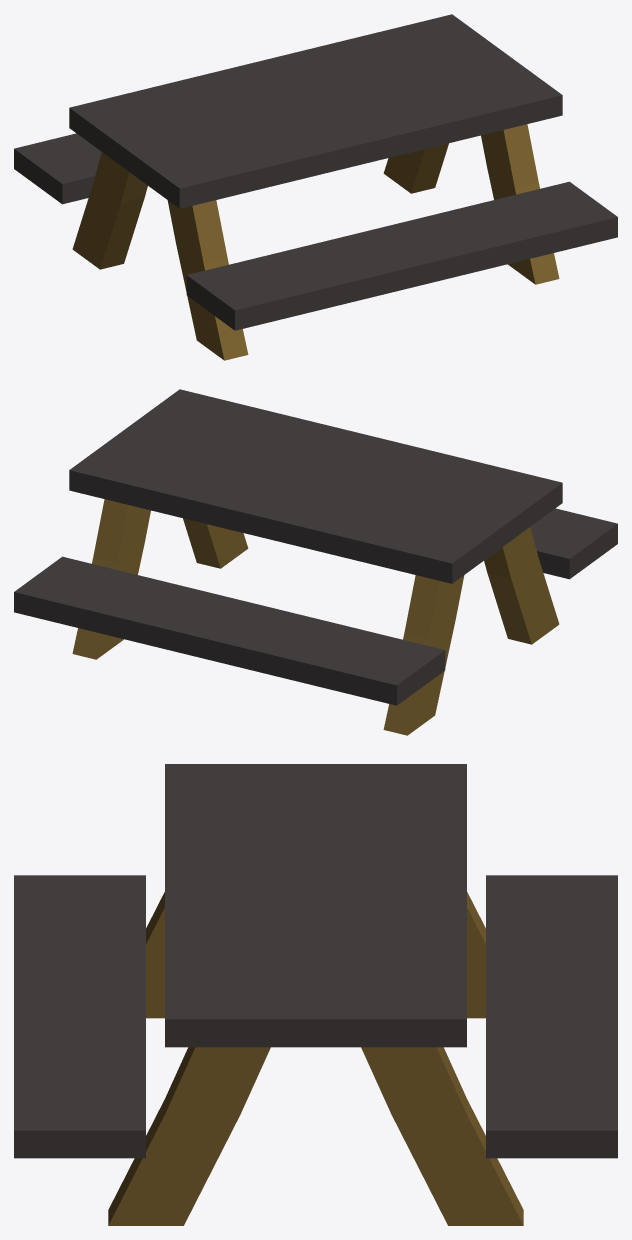
File: obj_picnic_bench_0.obj
3 views of the same model, one above another, from view 1: azimuth 30°, elevation 25°; view 2: azimuth 150°, elevation 25°; view 3: azimuth 270°, elevation 25° (orthographic). The views are drawn at different scales.
Bounding box in the file's own units: 2 × 0.8125 × 2.
